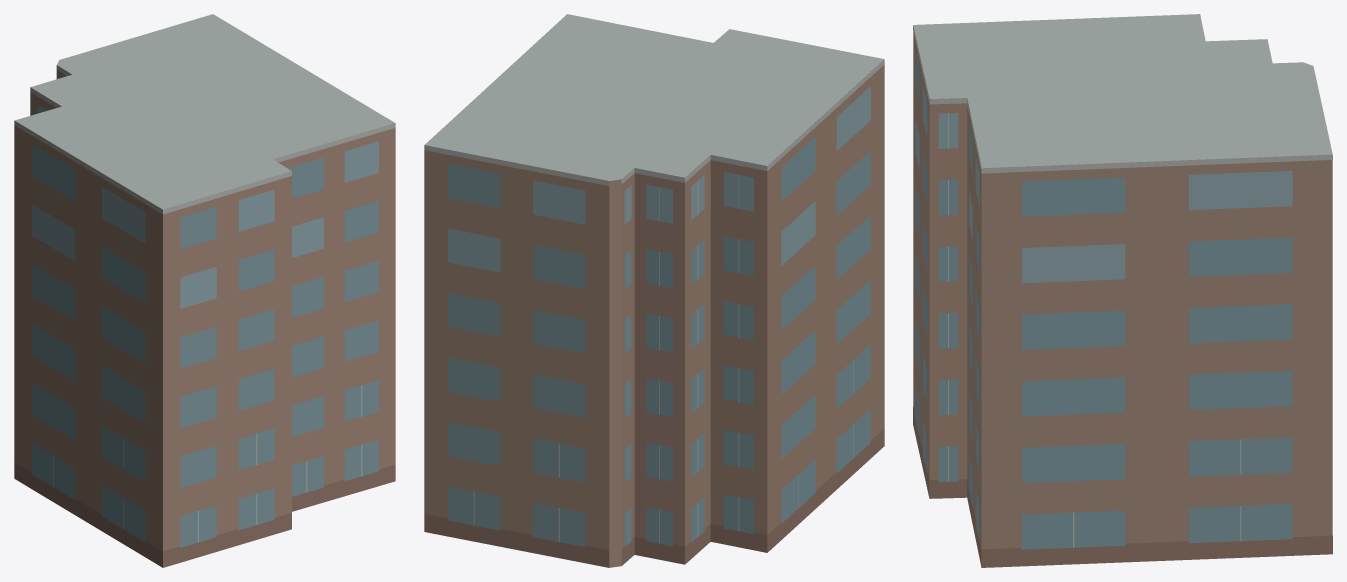
The model's file is survey-upis-32884629.glb.
The picture shows the model from 3 angles, left to right: view 1: azimuth 30°, elevation 25°; view 2: azimuth 150°, elevation 25°; view 3: azimuth 270°, elevation 25°; orthographic projection. The views are drawn at different scales.
Visible parts, largest first — view 1: survey-upis-32884629.tmp; view 2: survey-upis-32884629.tmp; view 3: survey-upis-32884629.tmp.
Boxes of the visible parts, box(x1,y1,x2,y2) form: survey-upis-32884629.tmp: box(14, 14, 395, 567); survey-upis-32884629.tmp: box(424, 14, 884, 567); survey-upis-32884629.tmp: box(913, 14, 1332, 567).
Size of the model in its own units: 15.15 by 18.3 by 17.43.
